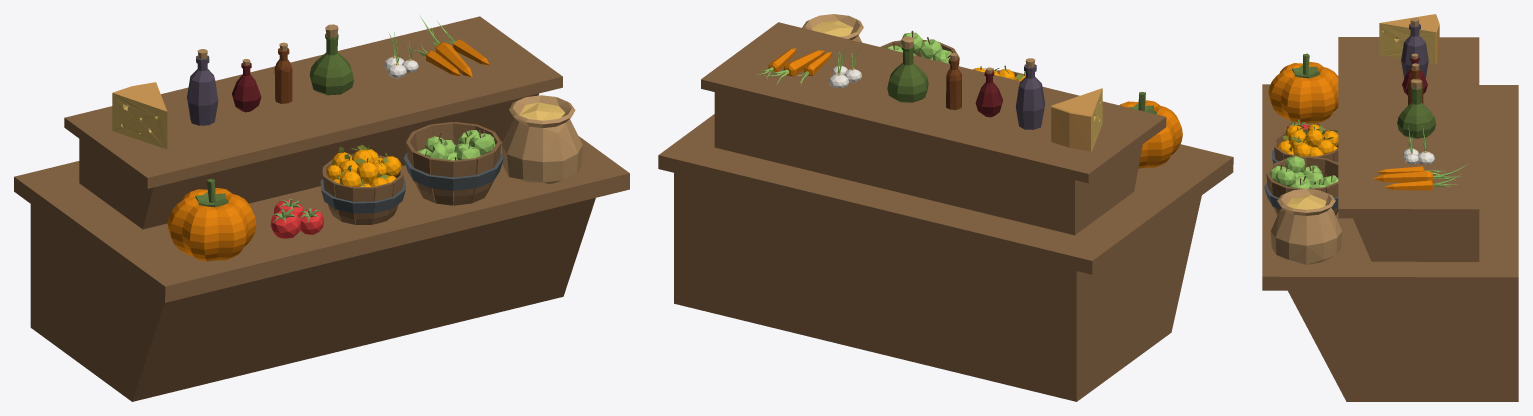
Rendered from Market_Table_03.fbx.
3 views of the same model, side by side, from view 1: azimuth 30°, elevation 25°; view 2: azimuth 150°, elevation 25°; view 3: azimuth 270°, elevation 25° (orthographic). The views are drawn at different scales.
Visible parts, largest first — view 1: Market_Table_03; view 2: Market_Table_03; view 3: Market_Table_03.
Part boxes in pixels (left/top/right/bottom): Market_Table_03: left=14, top=15, right=629, bottom=401; Market_Table_03: left=658, top=14, right=1233, bottom=401; Market_Table_03: left=1262, top=14, right=1518, bottom=401.
Size of the model in its own units: 2.12 by 1.28 by 1.19.
